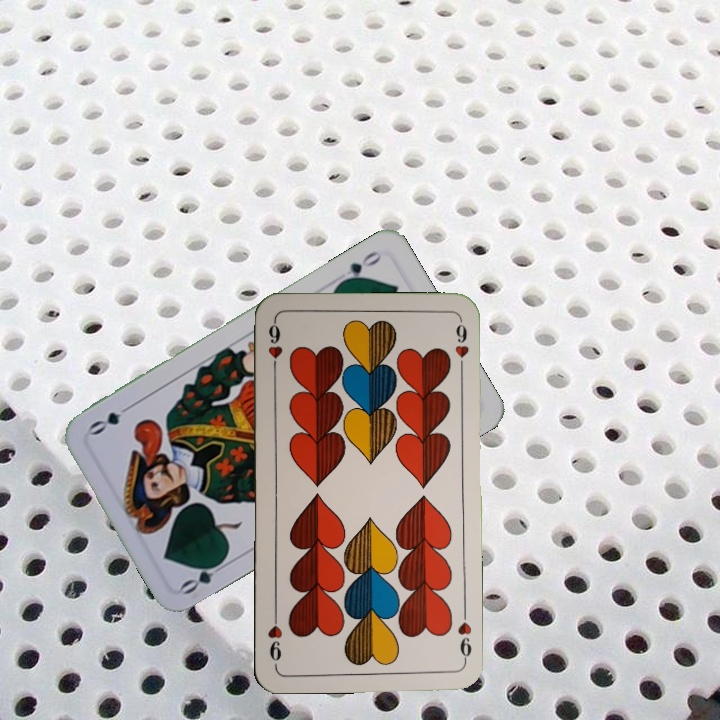GO: (176, 554, 232, 597), (334, 247, 384, 288)
H9: (264, 318, 285, 377), (453, 607, 474, 666)
